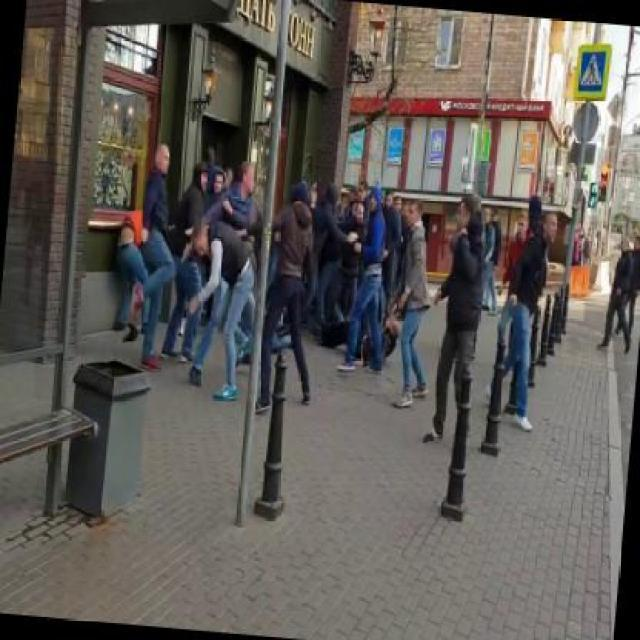fight: (202, 152, 324, 282)
non-fight: (426, 195, 488, 456), (491, 198, 558, 436), (387, 196, 442, 410)
